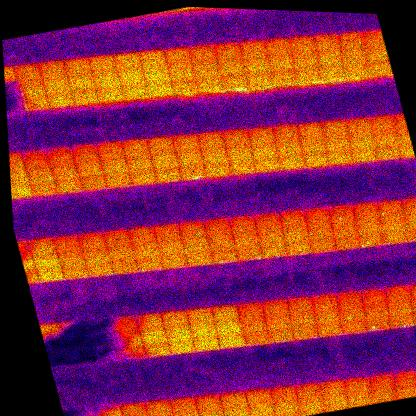Diode: (178, 161, 207, 182)
Hotspot: (228, 212, 258, 236), (327, 202, 357, 225), (178, 218, 207, 241), (159, 249, 189, 271), (376, 196, 406, 218), (135, 252, 164, 274), (184, 247, 214, 268), (259, 240, 288, 261), (234, 242, 263, 263), (210, 245, 239, 266), (174, 146, 203, 167), (195, 73, 224, 94), (21, 91, 50, 112), (357, 229, 385, 249), (30, 178, 58, 198), (76, 158, 104, 178), (26, 164, 54, 184), (18, 78, 46, 98), (388, 310, 416, 330), (369, 386, 399, 404), (364, 314, 391, 334), (338, 302, 366, 321), (264, 312, 292, 331), (51, 163, 79, 182), (181, 235, 210, 253), (410, 295, 416, 313)
Normal: (253, 208, 283, 233), (369, 111, 399, 136), (102, 227, 132, 251), (77, 229, 107, 253), (95, 137, 125, 161), (45, 143, 75, 167), (152, 221, 183, 244), (342, 373, 373, 396), (127, 223, 156, 247), (71, 140, 100, 164), (21, 146, 50, 170), (345, 115, 375, 138), (196, 128, 226, 151), (145, 132, 175, 155), (188, 42, 218, 65), (163, 44, 193, 67), (351, 198, 382, 220), (317, 377, 348, 399), (248, 138, 279, 160), (295, 119, 326, 141), (246, 124, 277, 146), (87, 53, 118, 75), (37, 58, 68, 80), (85, 257, 114, 280), (203, 215, 232, 238), (271, 121, 300, 144), (160, 307, 190, 329), (283, 236, 313, 258), (35, 263, 65, 285), (303, 204, 333, 226), (277, 208, 307, 230), (52, 232, 82, 254), (324, 146, 354, 168), (300, 148, 330, 170), (251, 152, 281, 174), (152, 162, 182, 184), (149, 148, 179, 170), (168, 393, 198, 415), (45, 88, 75, 110), (166, 59, 196, 81), (287, 34, 317, 56), (238, 38, 268, 60), (213, 40, 243, 62), (138, 47, 168, 69), (63, 55, 93, 77), (379, 226, 410, 247), (224, 142, 255, 163), (216, 55, 247, 76), (192, 331, 221, 353), (384, 283, 413, 305), (359, 285, 388, 307), (135, 310, 164, 332), (60, 260, 89, 282), (367, 371, 396, 393), (270, 384, 299, 406), (349, 144, 378, 166), (276, 150, 305, 172), (227, 155, 256, 177), (128, 165, 157, 187), (124, 150, 153, 172), (219, 388, 248, 410), (172, 132, 201, 154), (194, 392, 223, 414), (121, 136, 150, 158), (313, 31, 342, 53), (264, 36, 293, 58), (13, 61, 42, 83), (167, 335, 197, 356), (235, 300, 265, 321), (210, 302, 240, 323), (185, 304, 215, 325), (377, 211, 407, 232), (81, 244, 111, 265), (202, 158, 232, 179), (244, 385, 274, 406), (320, 118, 350, 139), (99, 154, 129, 175), (169, 75, 199, 96), (144, 77, 174, 98), (314, 47, 344, 68), (120, 80, 150, 101), (290, 49, 320, 70), (95, 82, 125, 103), (70, 84, 100, 105), (141, 62, 171, 83), (112, 50, 142, 71), (241, 327, 270, 348), (217, 330, 246, 351), (142, 339, 171, 360), (213, 315, 242, 336), (335, 288, 364, 309), (310, 290, 339, 311), (285, 293, 314, 314), (260, 297, 289, 318), (332, 231, 361, 252), (308, 234, 337, 255), (354, 214, 383, 235), (110, 256, 139, 277), (306, 219, 335, 240), (206, 230, 235, 251), (155, 236, 184, 257), (106, 242, 135, 263), (56, 248, 85, 269), (294, 380, 323, 401), (371, 128, 400, 149), (103, 169, 132, 190), (317, 60, 346, 81), (339, 44, 368, 65), (192, 58, 221, 79), (338, 30, 367, 51), (347, 131, 377, 151), (273, 137, 303, 157), (341, 58, 369, 79), (164, 322, 193, 342), (330, 219, 359, 239), (281, 223, 310, 243), (256, 227, 285, 247), (231, 229, 260, 249), (131, 239, 160, 259), (27, 236, 56, 256), (323, 132, 352, 152), (200, 144, 229, 164), (222, 127, 251, 147), (293, 63, 322, 83), (244, 67, 273, 87), (267, 51, 296, 71), (241, 54, 270, 74), (117, 66, 146, 86), (91, 68, 120, 88), (67, 71, 96, 91), (41, 73, 70, 93), (313, 305, 341, 325), (239, 314, 267, 334), (190, 319, 218, 339), (139, 324, 167, 344), (32, 250, 60, 270), (373, 142, 401, 162), (299, 135, 327, 155), (79, 172, 107, 192), (54, 175, 82, 195), (269, 65, 297, 85), (220, 70, 248, 90), (339, 316, 367, 336), (291, 322, 319, 342), (296, 394, 325, 413), (272, 397, 301, 416), (144, 397, 173, 416), (267, 326, 295, 345), (386, 298, 414, 317), (289, 308, 317, 327), (345, 388, 374, 406), (362, 300, 389, 319), (322, 391, 349, 410), (316, 319, 343, 338), (11, 178, 33, 201), (392, 368, 416, 389), (248, 400, 276, 416), (120, 401, 149, 416), (222, 403, 251, 416), (399, 193, 416, 215), (198, 405, 226, 416), (402, 221, 416, 243), (4, 65, 17, 86), (402, 210, 416, 229), (172, 408, 201, 416), (408, 280, 416, 301), (148, 411, 176, 416), (411, 308, 416, 326), (123, 414, 151, 416), (415, 365, 416, 385)
Shadow: (83, 313, 116, 337), (87, 328, 119, 352), (61, 331, 93, 354), (91, 342, 122, 365), (66, 344, 97, 367), (58, 317, 88, 339), (109, 313, 140, 334), (113, 327, 143, 348), (118, 342, 147, 363), (10, 165, 30, 187), (6, 94, 25, 116), (9, 149, 25, 173), (95, 404, 123, 416), (5, 80, 21, 101)
